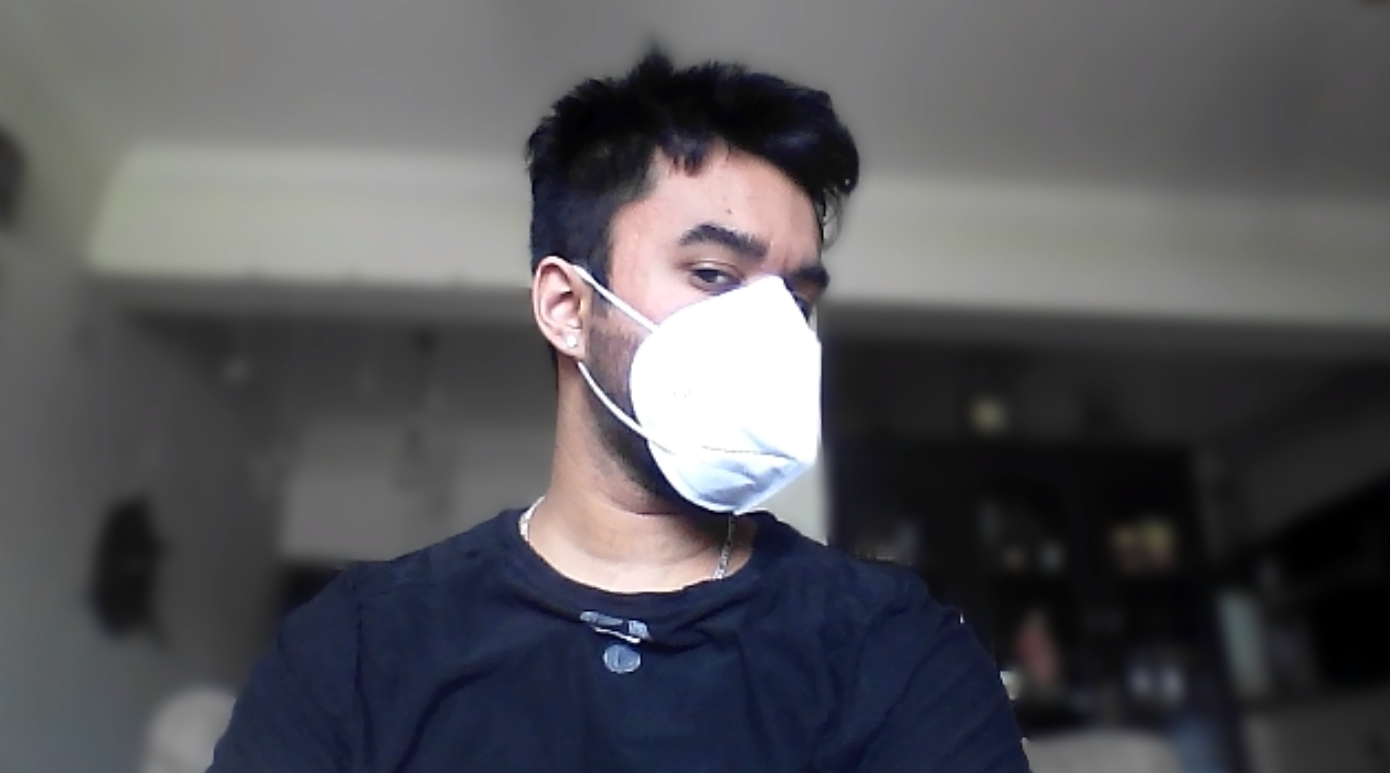Mask: (559, 257, 860, 516)
